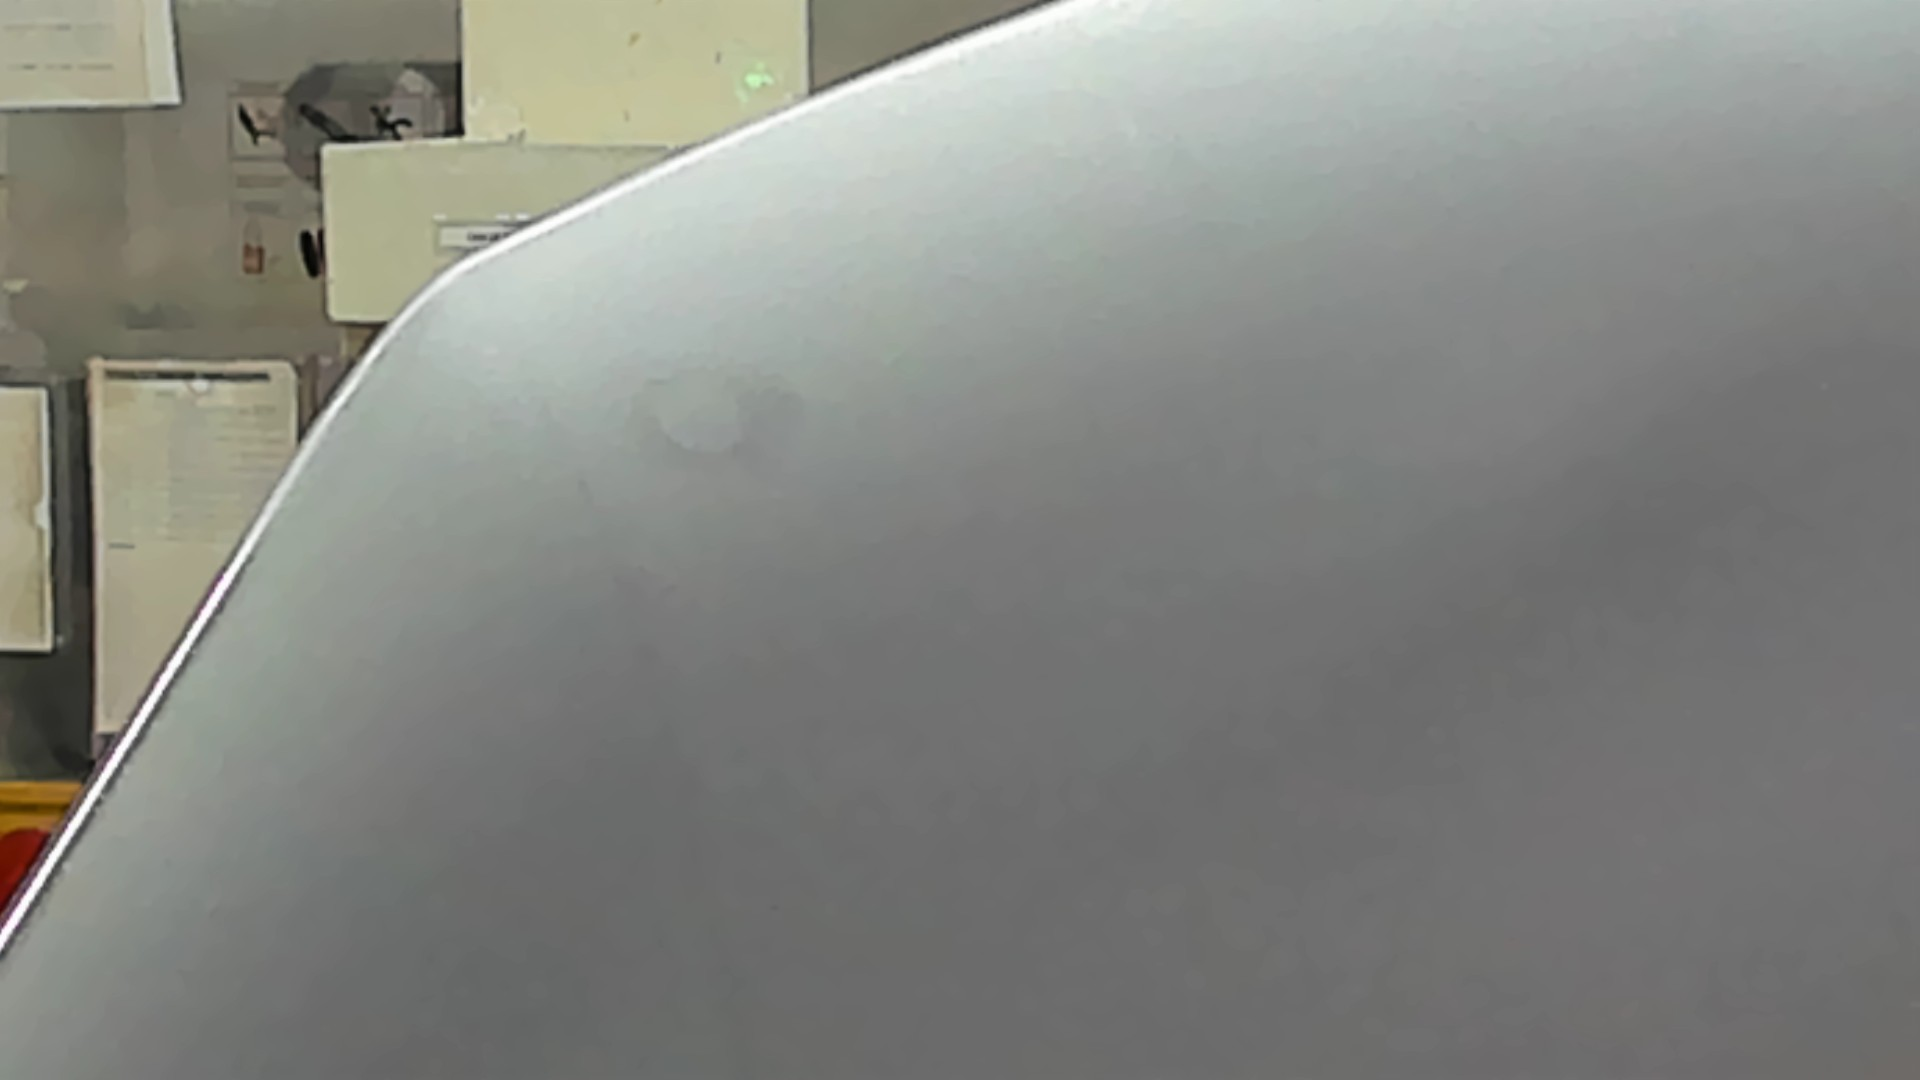capo: (600, 258, 1920, 1080)
